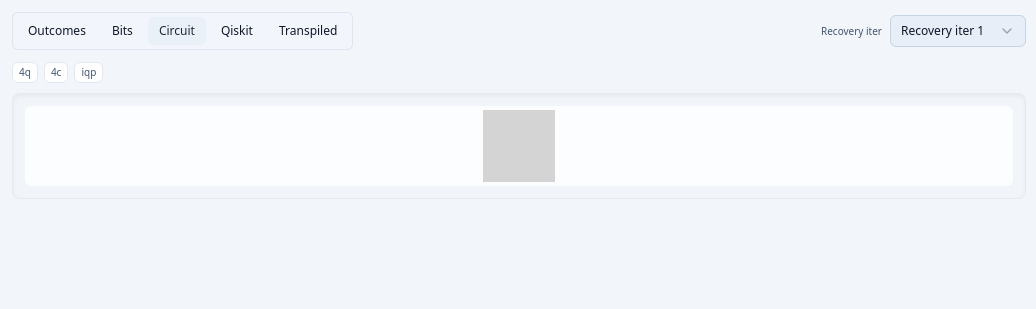
MeasurementOutcomesPanel › shows circuit tabs for the representative artifact and switches artifacts through the selector
This screenshot has width=1036, height=309.
Check: the button "Outcomes" is shown, box [17,17,97,45]
Check: the button "Bits" is shown, box [101,17,144,45]
Step 1. Click the button "Qiskit" → (237, 31), box [210,17,264,45]
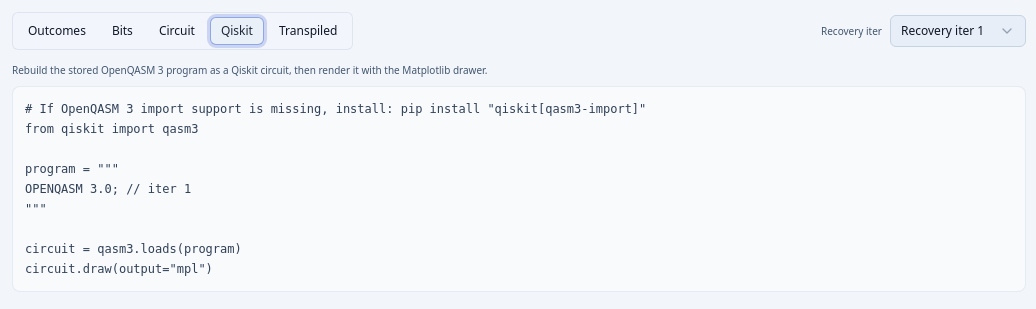
Check: the text "Rebuild the stored OpenQASM 3 program" is shown, box [12,63,487,77]
Step 2. Click the dropdown → (958, 31), box [890,15,1026,47]
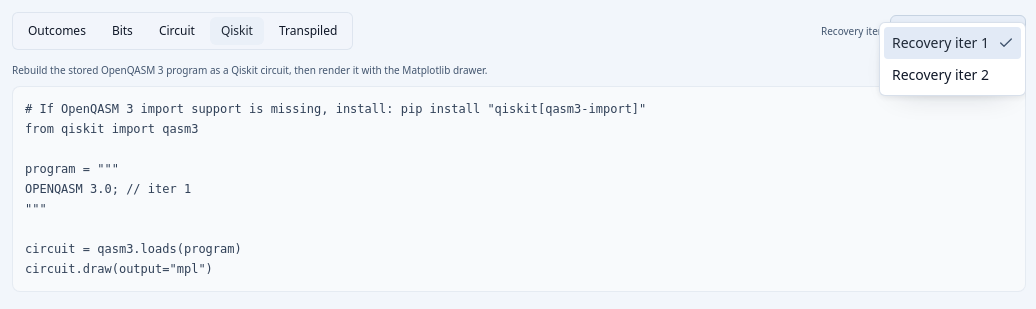
Step 3. Click the option "Recovery iter 2" → (940, 74), box [892,65,989,84]
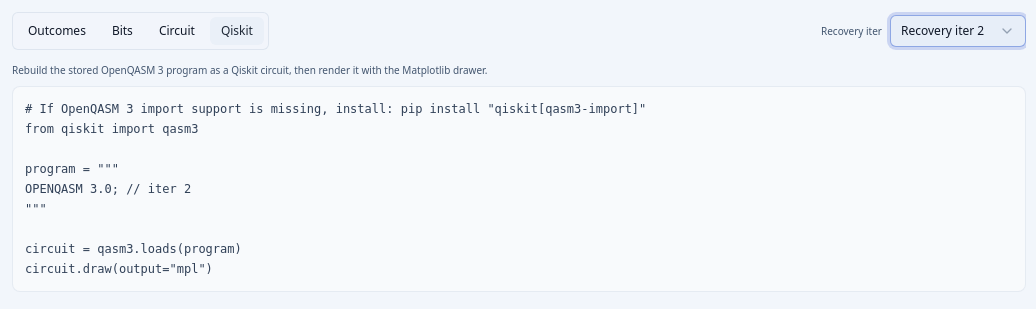
Check: the button "Transpiled" is gone
Check: the text "OPENQASM 3.0; // iter 2" is shown, box [25,102,646,276]
